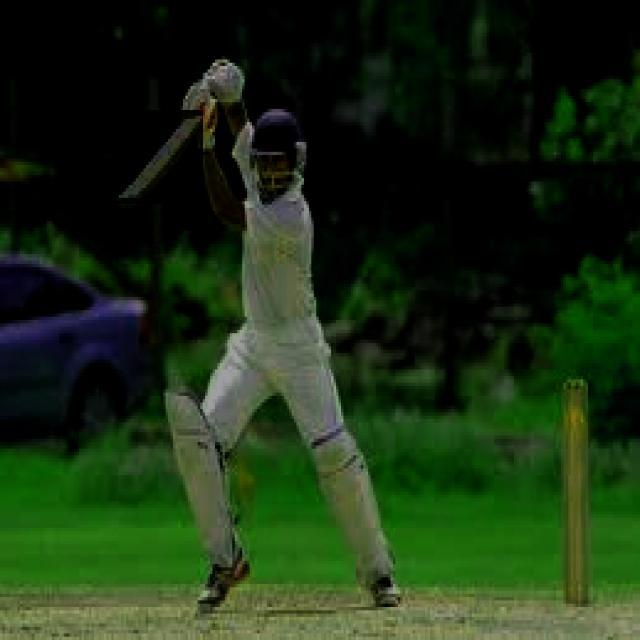bat: (109, 110, 201, 211)
toe: (110, 195, 138, 208)
